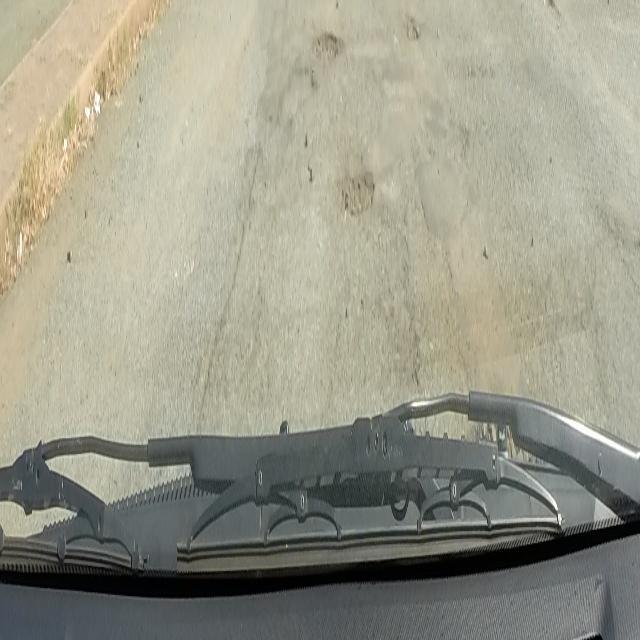pothole: (337, 170, 375, 218), (311, 27, 340, 72), (404, 10, 419, 40)
